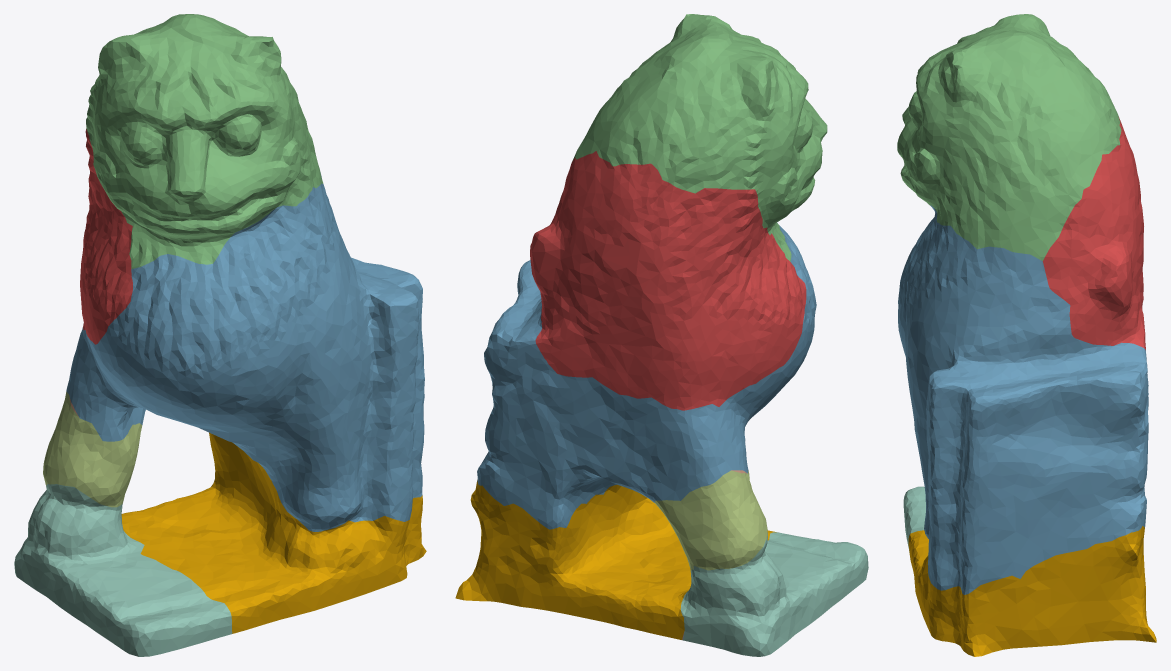
File: mode_6_8pcs.glb
3 views of the same model, side by side, from view 1: azimuth 30°, elevation 25°; view 2: azimuth 150°, elevation 25°; view 3: azimuth 270°, elevation 25° (orthographic). The views are drawn at different scales.
Visible parts, largest first — view 1: piece_2.obj, piece_3.obj, piece_0.obj, piece_4.obj, piece_1.obj, piece_5.obj; view 2: piece_1.obj, piece_2.obj, piece_3.obj, piece_0.obj, piece_4.obj, piece_5.obj; view 3: piece_2.obj, piece_3.obj, piece_0.obj, piece_1.obj, piece_4.obj.
Part boxes in pixels (box(x1,y1,x2,y2)): piece_2.obj: box(66, 172, 424, 531); piece_3.obj: box(86, 14, 323, 268); piece_0.obj: box(121, 432, 426, 633); piece_4.obj: box(14, 484, 232, 656); piece_1.obj: box(80, 129, 132, 344); piece_5.obj: box(43, 391, 142, 507); piece_1.obj: box(530, 151, 806, 410); piece_2.obj: box(477, 223, 816, 529); piece_3.obj: box(572, 14, 827, 261); piece_0.obj: box(455, 480, 776, 639); piece_4.obj: box(680, 532, 868, 656); piece_5.obj: box(654, 470, 767, 570); piece_2.obj: box(898, 205, 1148, 594); piece_3.obj: box(897, 14, 1121, 260); piece_0.obj: box(908, 526, 1156, 656); piece_1.obj: box(1042, 117, 1145, 350); piece_4.obj: box(903, 486, 925, 552).
Bounding box in the file's own units: 0.6128 × 1 × 0.4453.
